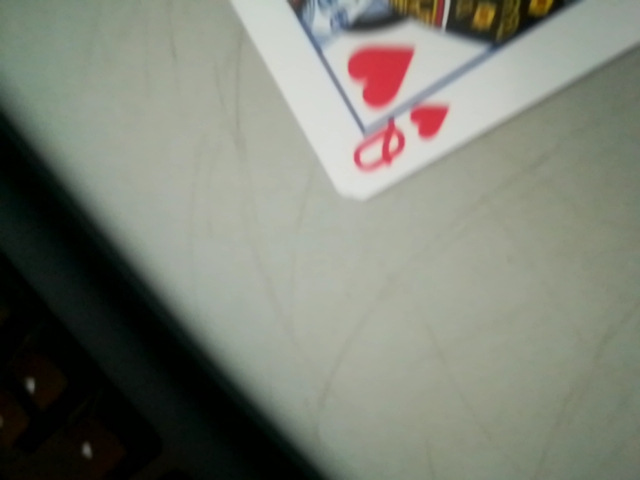hx q: (346, 98, 456, 186)
